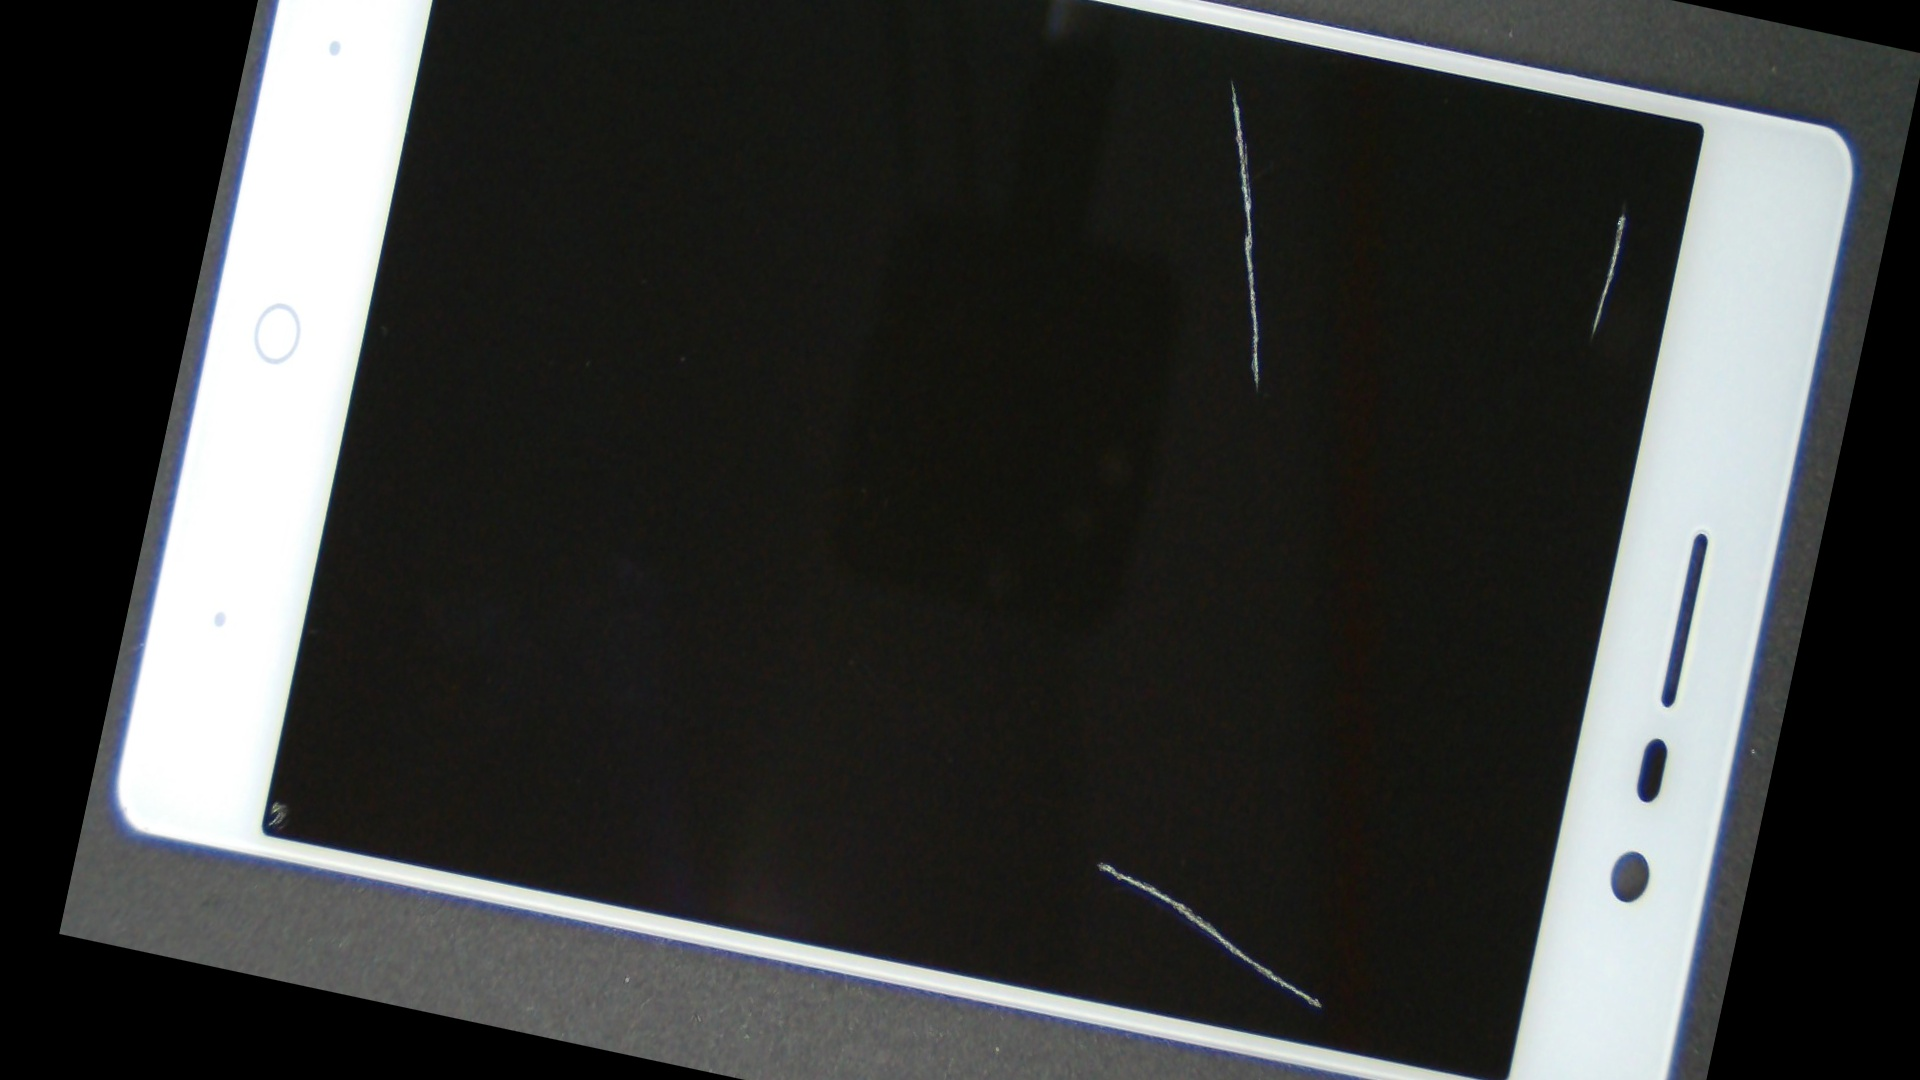oil: (551, 286, 1693, 1080), (927, 0, 1904, 367), (742, 0, 1725, 265), (152, 256, 483, 993)
